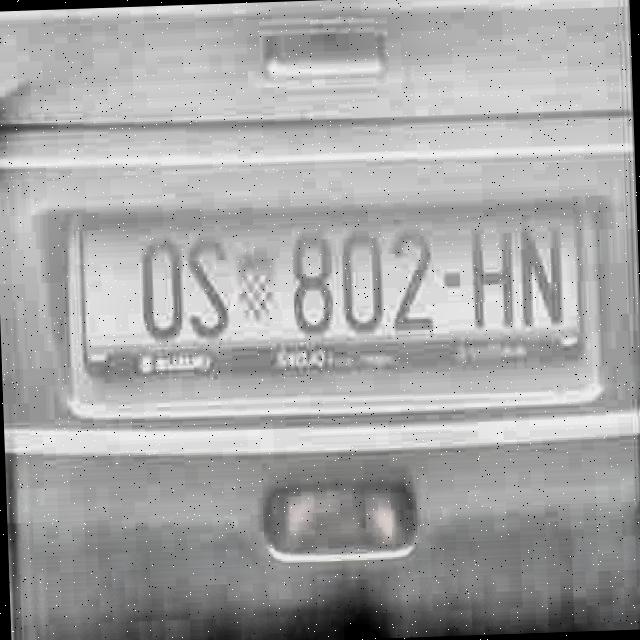license_plate: (78, 202, 591, 396)
